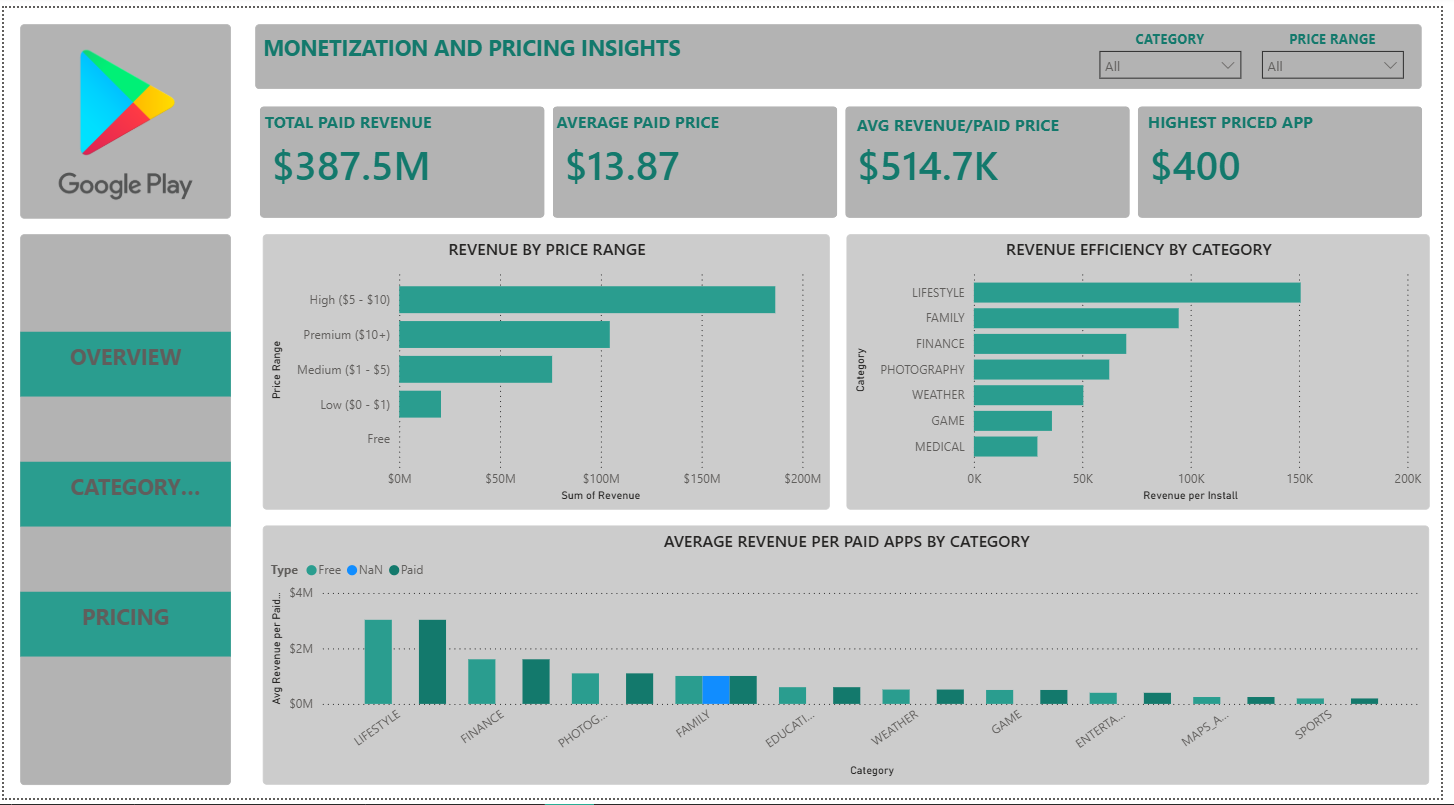

This screenshot's page, from the dashboard's own definition file:
{"tool":"powerbi","page":{"name":"PRICING INSIGHTS","canvas":[1420,780],"ordinal":2},"visuals":[{"type":"textbox","box":[16,224,208,544],"z":0},{"type":"textbox","box":[16,16,208,192],"z":1000},{"type":"image","box":[16,16,208,192],"z":2000},{"type":"textbox","box":[1124.7,96,227.3,48],"z":2000,"group":"g1"},{"type":"clusteredColumnChart","title":"AVERAGE REVENUE PER PAID APPS BY CATEGORY","fields":{"Category":["google_play_store_dataset.Category"],"Y":["google_play_store_dataset.Avg Revenue per Paid App"],"Series":["google_play_store_dataset.Type"]},"box":[256,512,1152,256],"z":2000,"group":"g2"},{"type":"textbox","box":[248,16,1152,64],"z":3000},{"type":"textbox","box":[832.5,96,243.5,64],"z":3000,"group":"g1"},{"type":"clusteredBarChart","title":"REVENUE BY PRICE RANGE","fields":{"Category":["google_play_store_dataset.Price Range"],"Y":["Sum(google_play_store_dataset.Revenue)"]},"box":[256,224,560,272],"z":3000,"group":"g2"},{"type":"cardVisual","fields":{"Data":["google_play_store_dataset.Total Paid Revenue","google_play_store_dataset.Average Paid Price","google_play_store_dataset.Avg Revenue per Paid App","google_play_store_dataset.Max Paid Price"]},"box":[236,80,1184,144],"z":4000},{"type":"textbox","box":[540.2,96,227.3,48],"z":4000,"group":"g1"},{"type":"group","id":"g1","title":"Group 2","box":[248,96,1104,64],"z":5000},{"type":"textbox","box":[248,96,227.3,48],"z":5000,"group":"g1"},{"type":"group","id":"g2","title":"Group 1","box":[256,224,1152,544],"z":6000},{"type":"slicer","fields":{"Values":["google_play_store_dataset.Category"]},"box":[1072,32,160,48],"z":7000,"group":"g3"},{"type":"slicer","fields":{"Values":["google_play_store_dataset.Price Range"]},"box":[1232,32,160,48],"z":7000,"group":"g4"},{"type":"clusteredBarChart","title":"REVENUE EFFICIENCY BY CATEGORY","fields":{"Y":["google_play_store_dataset.Revenue per Install"],"Category":["google_play_store_dataset.Category"]},"box":[832,224,576,272],"z":7000},{"type":"group","id":"g3","title":"Group 3","box":[1072,16,160,64],"z":8000},{"type":"textbox","box":[1072,16,160,32],"z":9000,"group":"g3"},{"type":"group","id":"g4","title":"Group 3","box":[1232,16,160,64],"z":9000},{"type":"textbox","box":[1232,16,160,32],"z":9000,"group":"g4"},{"type":"shape","box":[16,320,208,64],"z":10000},{"type":"shape","box":[16,448,208,64],"z":11000},{"type":"shape","box":[16,576,208,64],"z":12000},{"type":"actionButton","box":[16,576,208,48],"z":13000},{"type":"actionButton","box":[16,448,208,48],"z":14000},{"type":"actionButton","box":[16,320,208,48],"z":15000}]}

Visuals, with their boxes in screenshot pixels (x1, y1, x2, y2), scaled from the page's 1420x780 canvas onto the 1454x805 screenshot:
textbox: <box>16,231,229,793</box>
textbox: <box>16,17,229,215</box>
image: <box>16,17,229,215</box>
textbox: <box>1152,99,1384,149</box>
"AVERAGE REVENUE PER PAID APPS BY CATEGORY" clusteredColumnChart: <box>262,528,1442,793</box>
textbox: <box>254,17,1434,83</box>
textbox: <box>852,99,1102,165</box>
"REVENUE BY PRICE RANGE" clusteredBarChart: <box>262,231,836,512</box>
cardVisual - google_play_store_dataset.Total Paid Revenue x google_play_store_dataset.Average Paid Price: <box>242,83,1453,231</box>
textbox: <box>553,99,786,149</box>
"Group 2" group: <box>254,99,1384,165</box>
textbox: <box>254,99,487,149</box>
"Group 1" group: <box>262,231,1442,793</box>
slicer - google_play_store_dataset.Category: <box>1098,33,1261,83</box>
slicer - google_play_store_dataset.Price Range: <box>1261,33,1425,83</box>
"REVENUE EFFICIENCY BY CATEGORY" clusteredBarChart: <box>852,231,1442,512</box>
"Group 3" group: <box>1098,17,1261,83</box>
textbox: <box>1098,17,1261,50</box>
"Group 3" group: <box>1261,17,1425,83</box>
textbox: <box>1261,17,1425,50</box>
shape: <box>16,330,229,396</box>
shape: <box>16,462,229,528</box>
shape: <box>16,594,229,661</box>
actionButton: <box>16,594,229,644</box>
actionButton: <box>16,462,229,512</box>
actionButton: <box>16,330,229,380</box>
